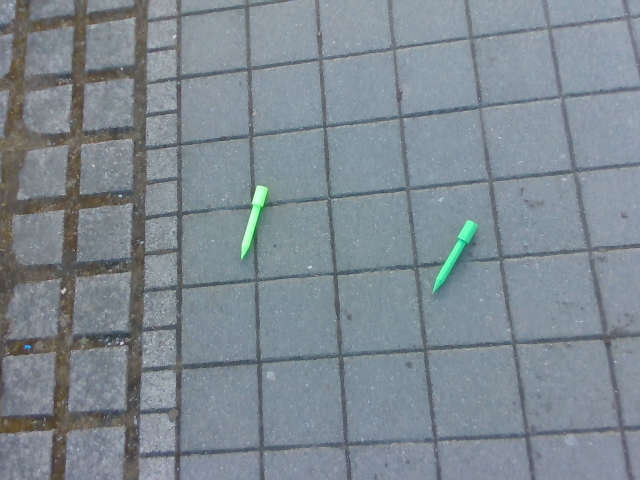Probe: (429, 217, 483, 303), (238, 183, 270, 266)
